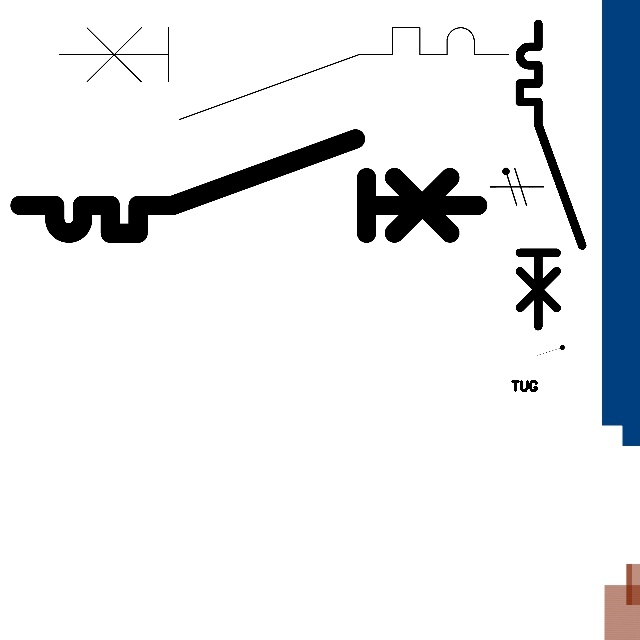interruptor_termomagnetico: (8, 127, 489, 245), (48, 16, 520, 131), (512, 16, 590, 334)
